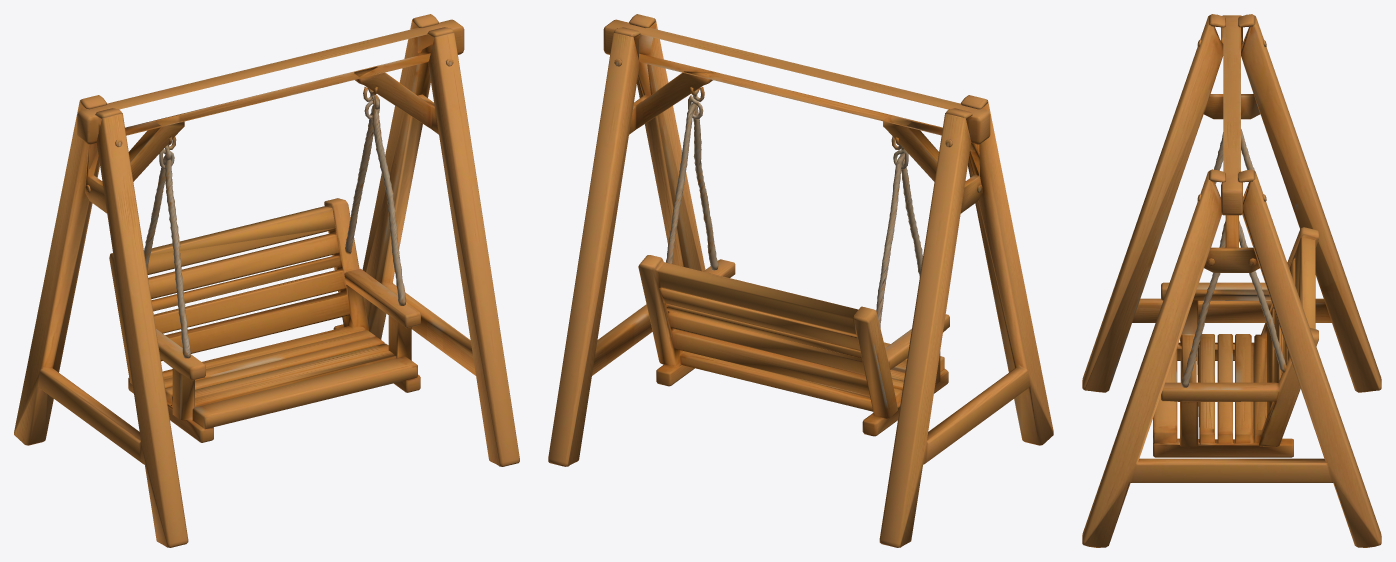
File: Outdoor__a_wooden_swing_set_5251929e_v1.cluster.glb
The picture shows the model from 3 angles, left to right: view 1: azimuth 30°, elevation 25°; view 2: azimuth 150°, elevation 25°; view 3: azimuth 270°, elevation 25°; orthographic projection. The views are drawn at different scales.
Parts seen in each view (by area): view 1: material; view 2: material; view 3: material.
Part boxes in pixels (x1,y1,x2,y2): material: (14,14,519,547); material: (548,14,1053,547); material: (1082,14,1381,547).
Size of the model in its own units: 1.9 by 1.87 by 1.36.
Materials: 1 (1 with a texture image).
